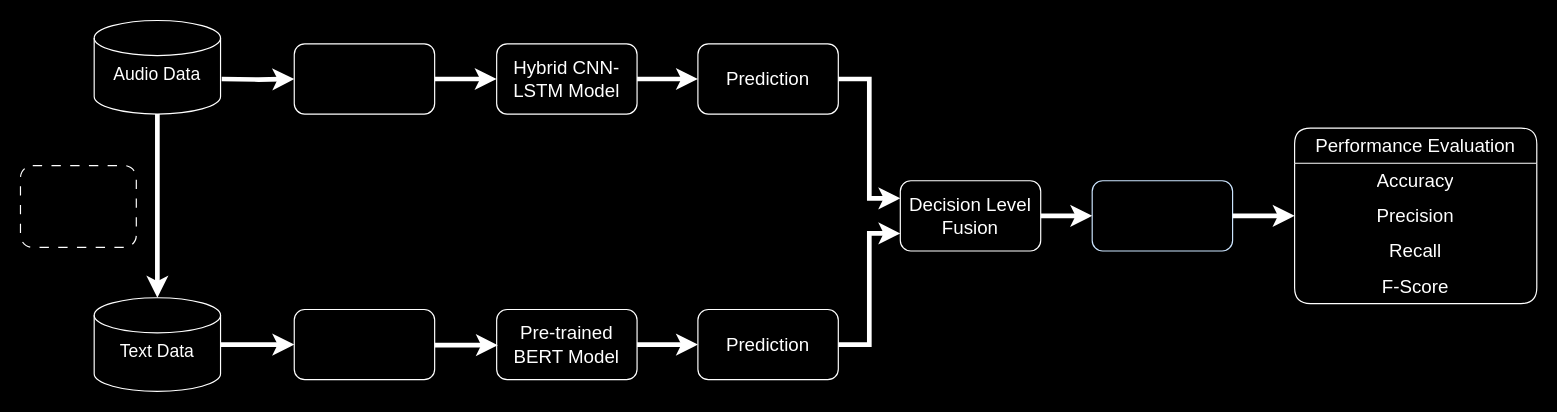
Some shapes in this 1557 by 412 pixel diagram are drawn without their labels. The shapes that lost their labels are listed below. From the top down, each one's centre as x and y in pixels, then its label:
point (364, 78): Audio Feature Extraction
point (77, 205): Transcription of audio files
point (1162, 215): Classification
point (364, 344): Text Feature Extraction
